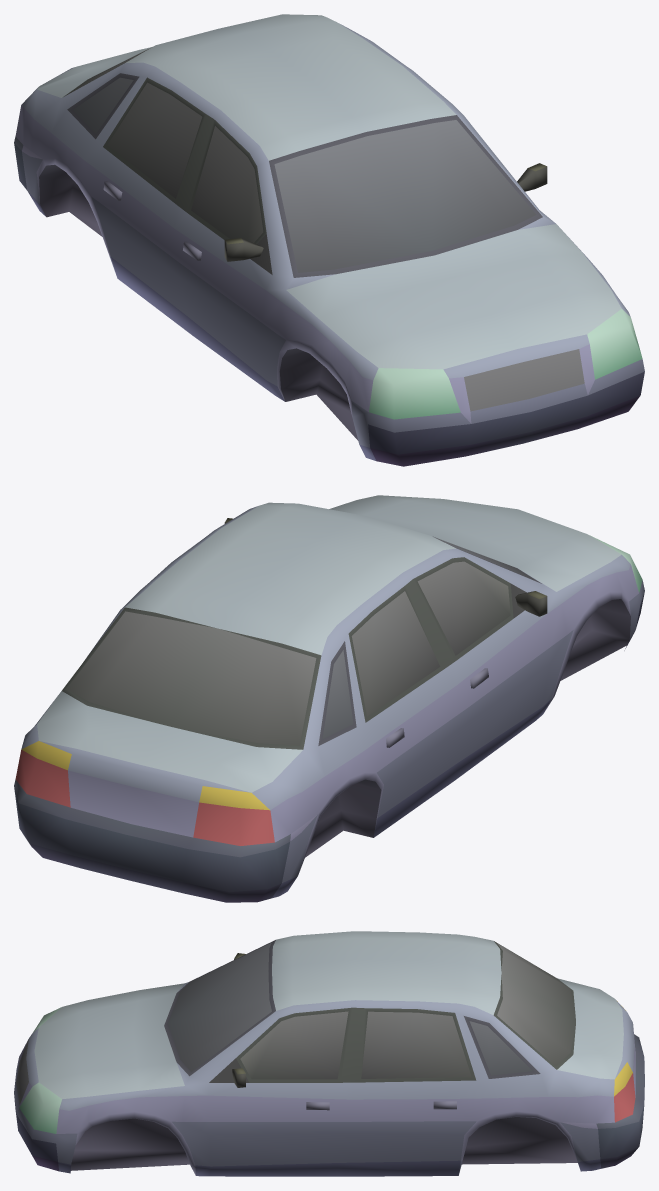
The model's file is blue_car.glb.
3 views of the same model, one above another, from view 1: azimuth 30°, elevation 25°; view 2: azimuth 150°, elevation 25°; view 3: azimuth 270°, elevation 25° (orthographic). The views are drawn at different scales.
Visible parts, largest first — view 1: blue_car; view 2: blue_car; view 3: blue_car.
Boxes of the visible parts, x1,y1,x2,y2 form: blue_car: (14,14,644,466); blue_car: (14,495,644,902); blue_car: (14,931,644,1176).
Size of the model in its own units: 0.3142 by 0.2024 by 0.6897.
